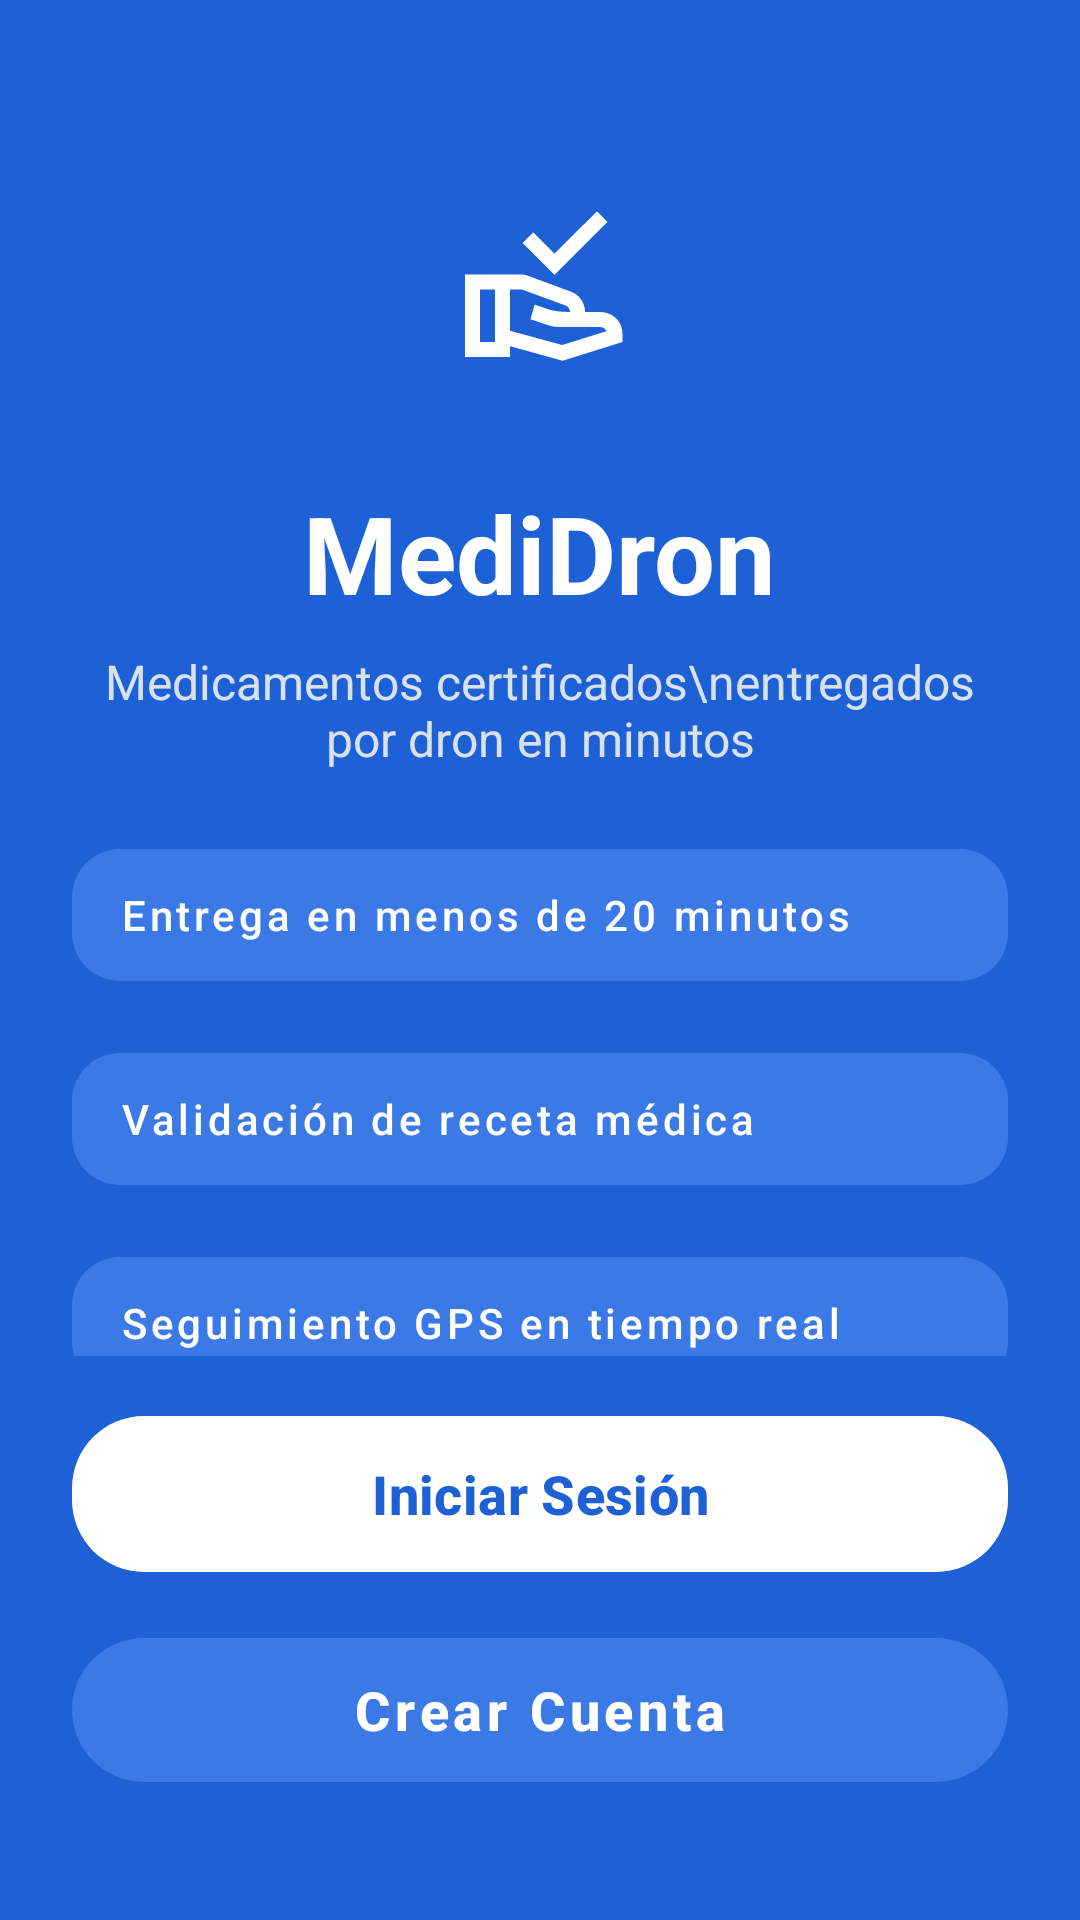

Screen size 1080x1920. Icon name, then its box in pixels as (x1, y1, x2, y2):
entrega: (465, 211, 623, 361)
